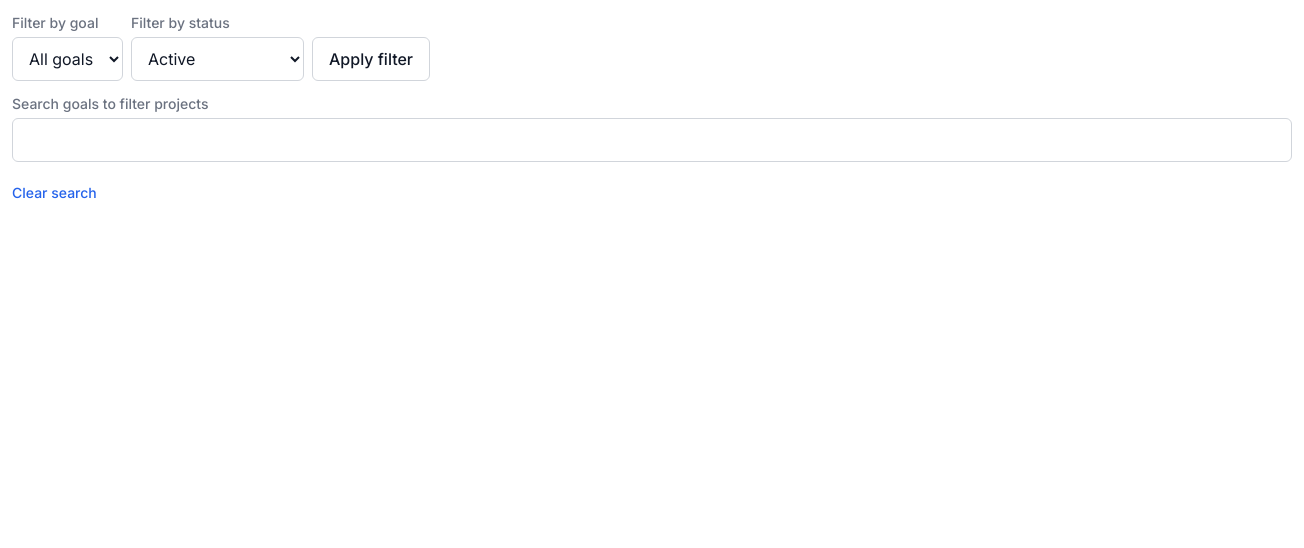
Test: ProjectFilterSelect › caps visible goal matches at 50 and prompts for a narrower query
The width and height of the screenshot is (1304, 548).
Focus the dropdown labelled "Search goals to filter projects" at (652, 140), box [12, 118, 1292, 162]
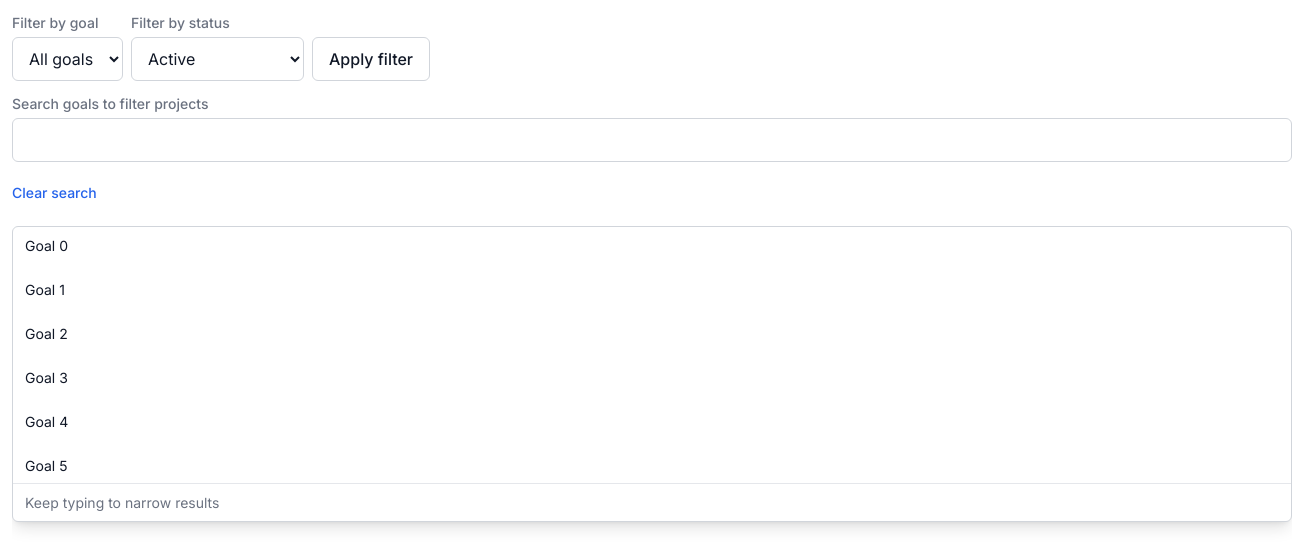
Expected: the text "Keep typing to narrow results" is shown, [13, 483, 1291, 521]
